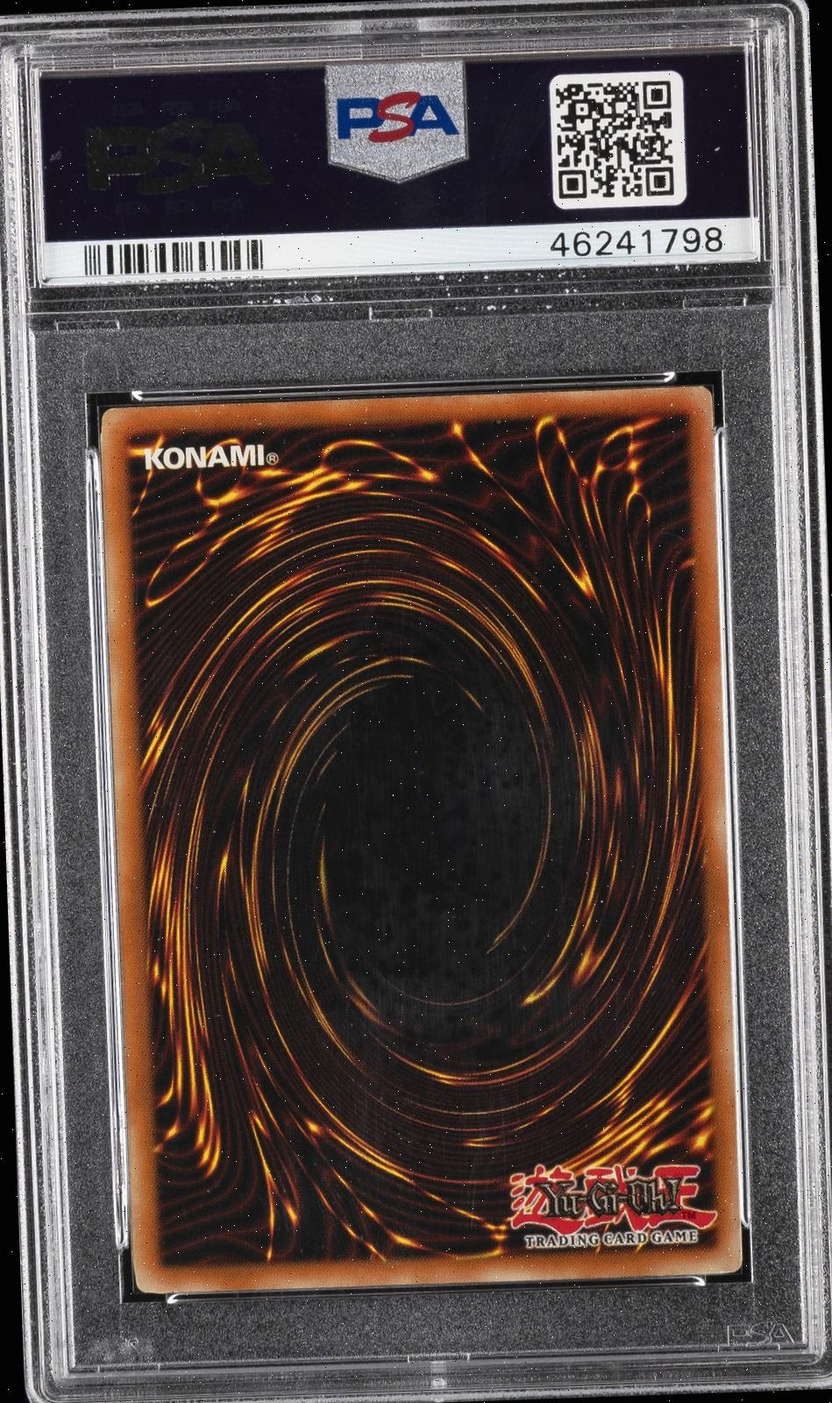card-2UtV: (99, 385, 742, 1294)
